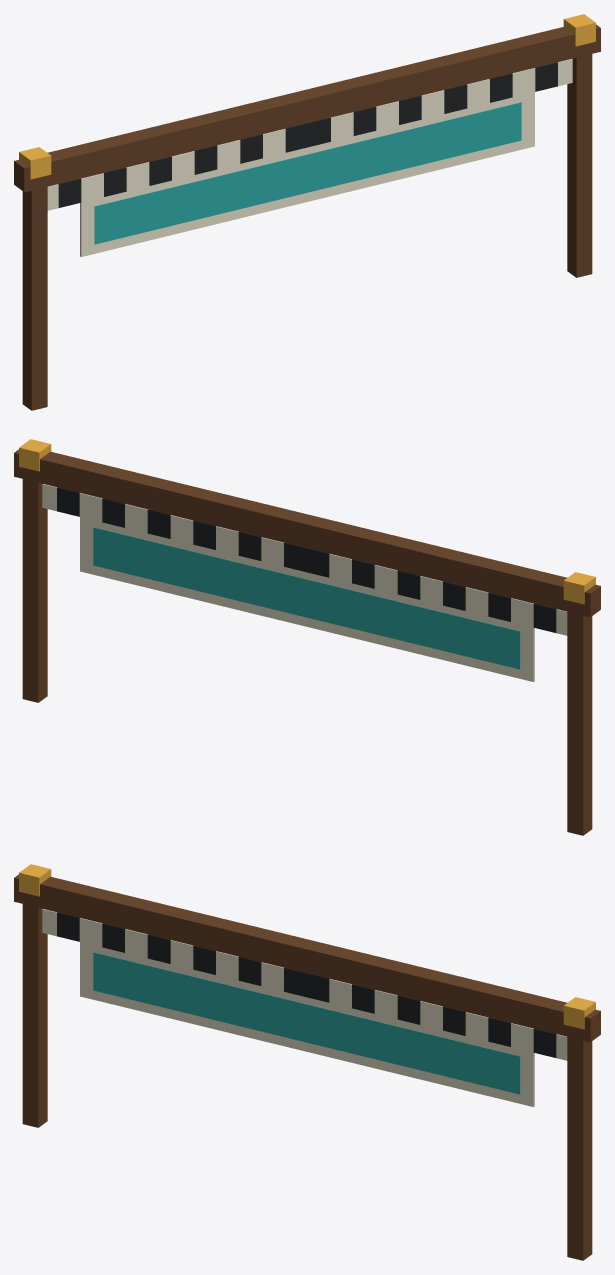
Rendered from start-finish-arch.glb.
The picture shows the model from 3 angles, top to bottom: view 1: azimuth 30°, elevation 25°; view 2: azimuth 150°, elevation 25°; view 3: azimuth 330°, elevation 25°; orthographic projection.
Visible parts, largest first — view 1: arch; view 2: arch; view 3: arch.
Boxes of the visible parts, x1,y1,x2,y2 form: arch: (14, 14, 600, 410); arch: (14, 439, 600, 835); arch: (14, 864, 600, 1260).
Size of the model in its own units: 12.7 by 5.3 by 0.4492.
